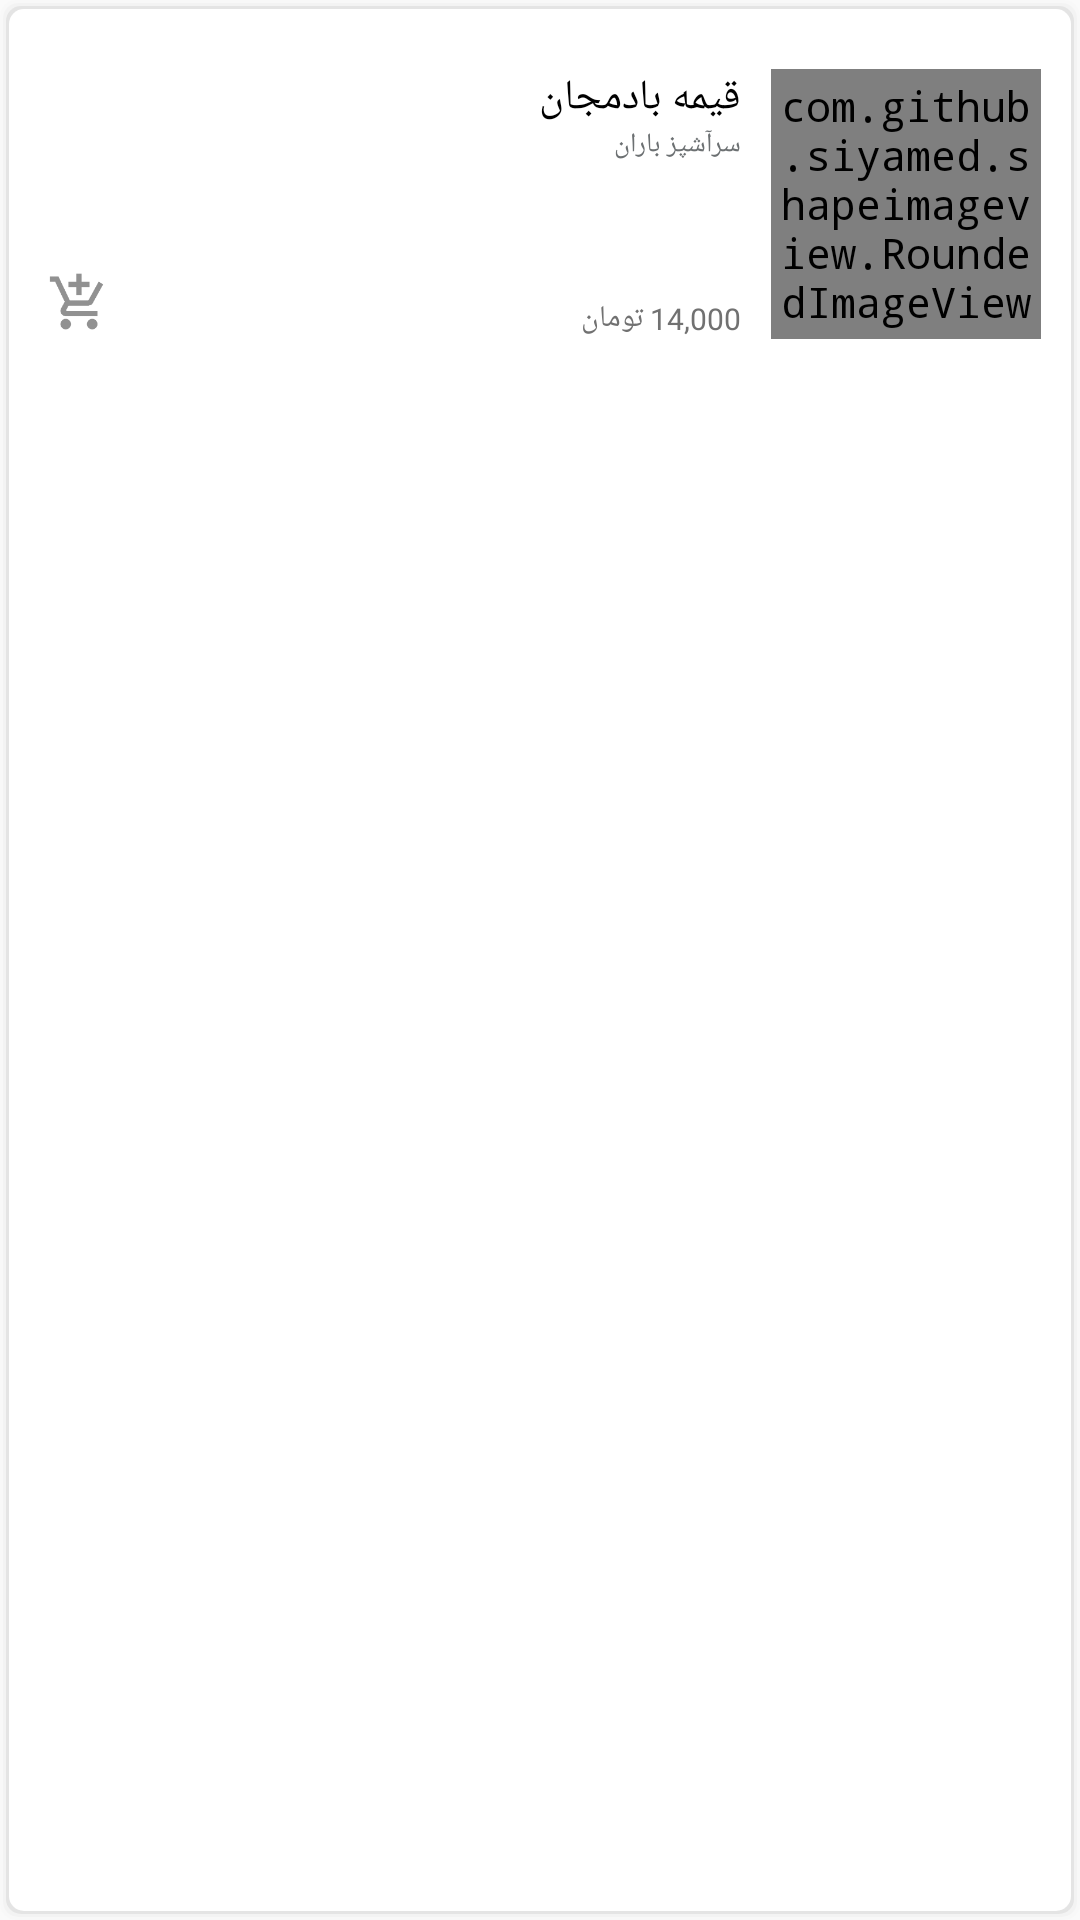

Named icons in this screenshot (1080 x 1920) and their centers, (x,y):
add shopping cart: (76,301)
